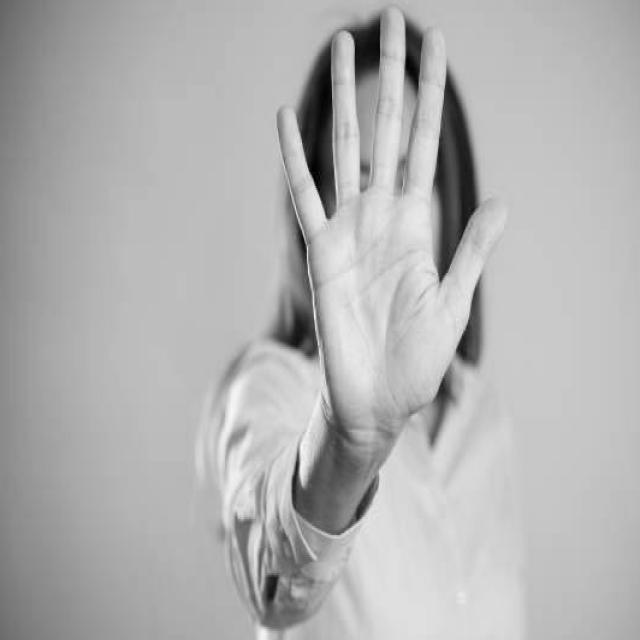stop: (273, 0, 513, 461)
